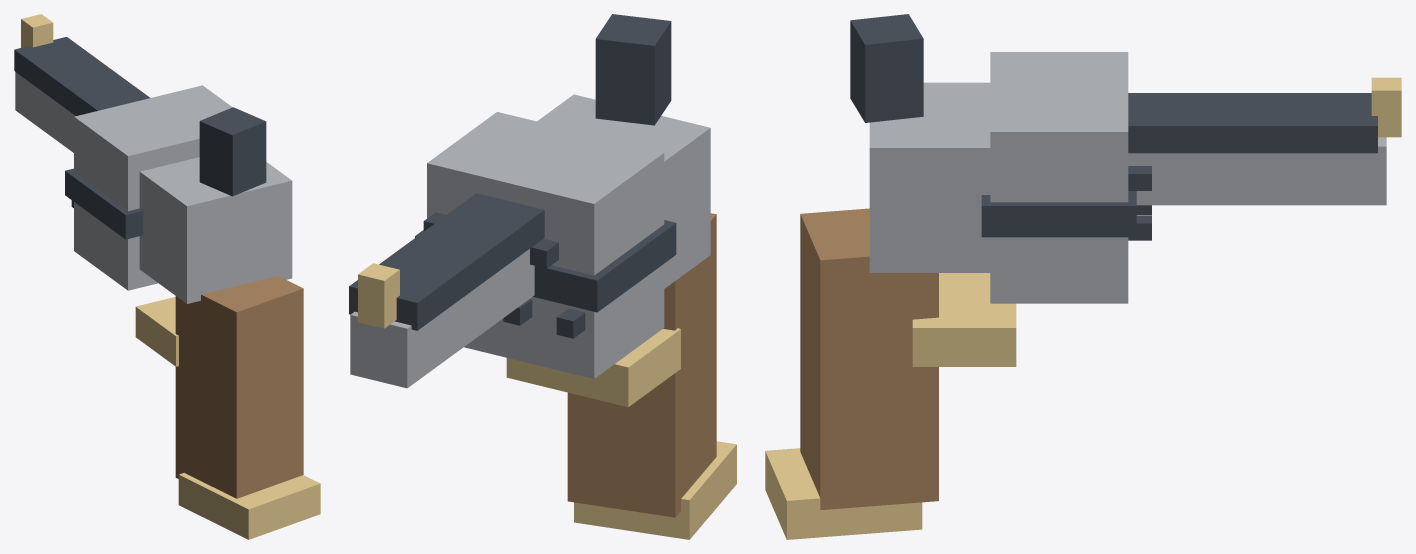
File: revolver.glb
The picture shows the model from 3 angles, left to right: view 1: azimuth 30°, elevation 25°; view 2: azimuth 150°, elevation 25°; view 3: azimuth 270°, elevation 25°; orthographic projection. The views are drawn at different scales.
Visible parts, largest first — view 1: grip, frame, cylinder, barrel_top, grip_cap, hammer, cylinder_band, barrel, trigger_guard, front_sight; view 2: cylinder, grip, barrel_top, barrel, frame, hammer, trigger_guard, cylinder_band, grip_cap, front_sight, cylinder_chamber (×3); view 3: grip, cylinder, frame, barrel_top, barrel, trigger_guard, hammer, grip_cap, cylinder_band, front_sight.
Part boxes in pixels (left/top/right/bottom): grip: left=175, top=276, right=303, bottom=498; frame: left=139, top=157, right=292, bottom=303; cylinder: left=74, top=85, right=232, bottom=290; barrel_top: left=14, top=37, right=149, bottom=115; grip_cap: left=178, top=473, right=320, bottom=539; hammer: left=199, top=107, right=266, bottom=196; cylinder_band: left=65, top=168, right=143, bottom=239; barrel: left=15, top=72, right=75, bottom=152; trigger_guard: left=135, top=297, right=178, bottom=366; front_sight: left=21, top=14, right=53, bottom=47; cylinder: left=427, top=112, right=664, bottom=378; grip: left=567, top=213, right=716, bottom=517; barrel_top: left=349, top=193, right=544, bottom=330; barrel: left=350, top=249, right=534, bottom=388; frame: left=537, top=94, right=710, bottom=288; hammer: left=595, top=14, right=671, bottom=125; trigger_guard: left=506, top=328, right=680, bottom=407; cylinder_band: left=415, top=220, right=676, bottom=312; grip_cap: left=574, top=441, right=736, bottom=539; front_sight: left=358, top=263, right=399, bottom=328; cylinder_chamber (×3): left=503, top=238, right=585, bottom=338; grip: left=800, top=208, right=938, bottom=510; cylinder: left=990, top=52, right=1128, bottom=303; frame: left=869, top=82, right=990, bottom=272; barrel_top: left=1128, top=93, right=1377, bottom=153; barrel: left=1128, top=137, right=1386, bottom=205; trigger_guard: left=912, top=273, right=1016, bottom=366; hammer: left=850, top=14, right=923, bottom=122; grip_cap: left=765, top=448, right=922, bottom=539; cylinder_band: left=981, top=191, right=1136, bottom=237; front_sight: left=1371, top=77, right=1401, bottom=137.
Bounding box in the file's own units: 0.24 × 0.615 × 0.7387.
